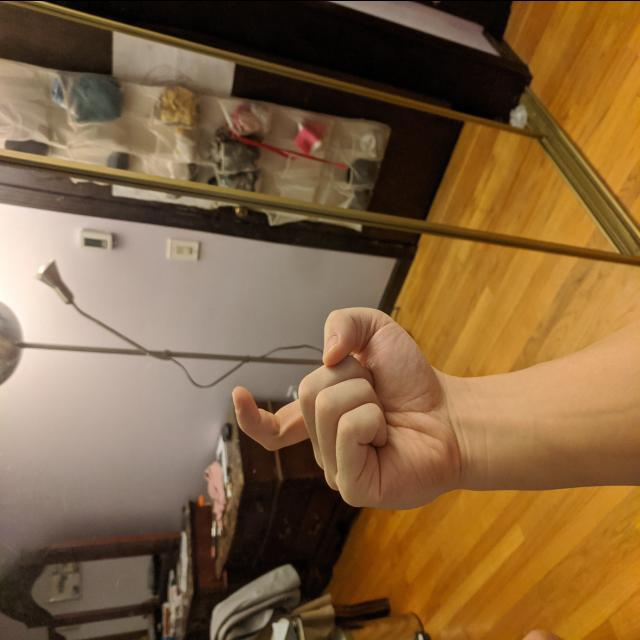X: (228, 301, 466, 513)
